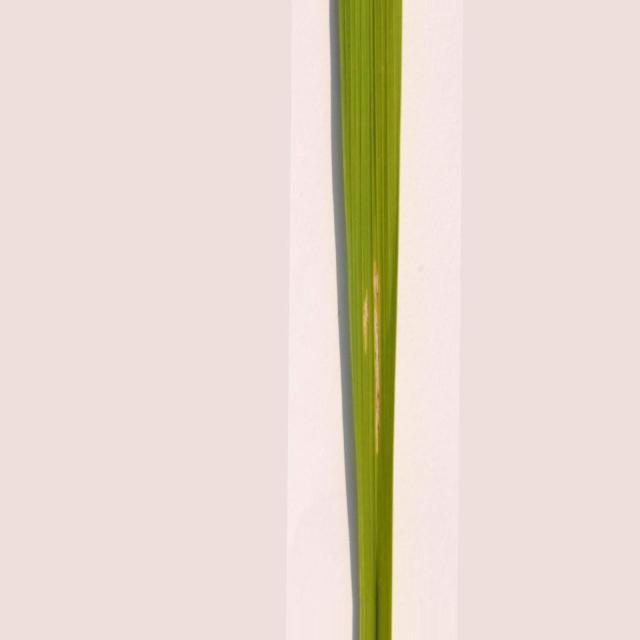Bacterial_Leaf_Blight: (373, 263, 380, 454), (362, 295, 369, 351)
